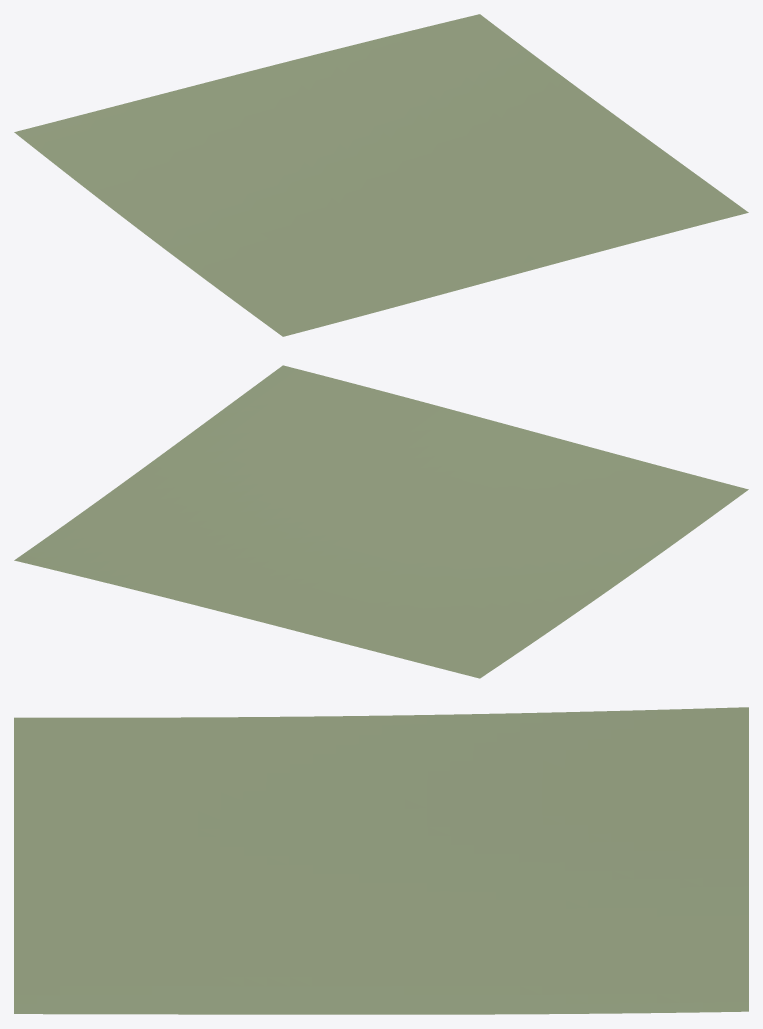
The model's file is expanse-29-8.glb.
3 views of the same model, one above another, from view 1: azimuth 30°, elevation 25°; view 2: azimuth 150°, elevation 25°; view 3: azimuth 270°, elevation 25° (orthographic). The views are drawn at different scales.
Visible parts, largest first — view 1: expanse-29-8; view 2: expanse-29-8; view 3: expanse-29-8.
Boxes of the visible parts, left/top/right/bottom form: expanse-29-8: left=14, top=14, right=748, bottom=336; expanse-29-8: left=14, top=365, right=748, bottom=678; expanse-29-8: left=14, top=707, right=748, bottom=1014.
Bounding box in the file's own units: 256 × 6.5 × 256.
